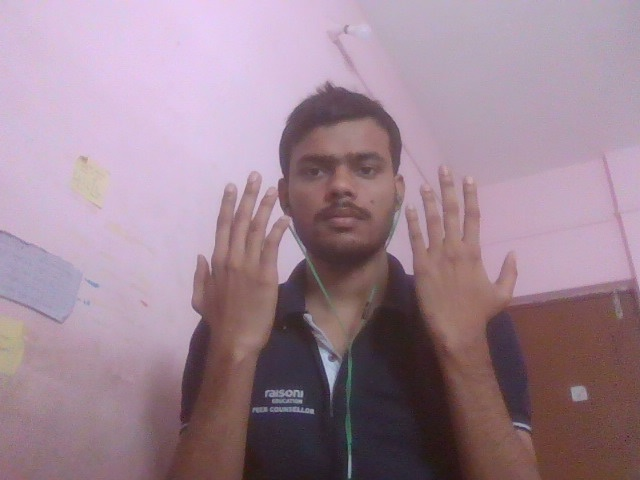allDone: (117, 149, 551, 374)
